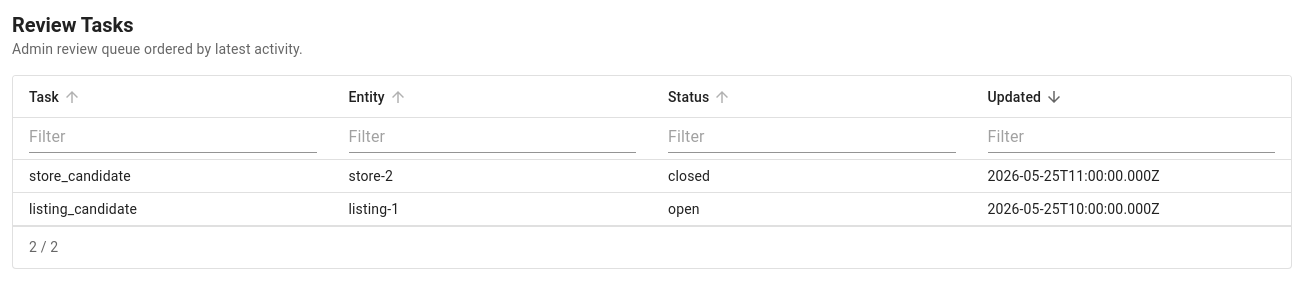
ReviewTasksPage › sorts and filters review tasks
expect the text "store_candidate" is shown: met, box [13,160,332,193]
expect the text "listing_candidate" is shown: met, box [13,193,332,226]
Click the button "Task" at {"x": 57, "y": 97}, box [29,85,85,109]
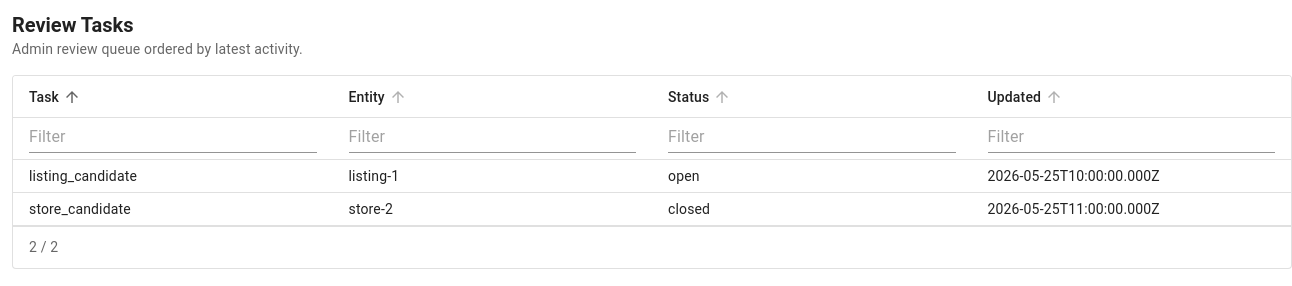
expect the row "listing_candidate listing-1 open 2026-05-25T10:00:00.000Z" is shown: met, box [13,160,1291,193]
Type "open" into the field named "Filter Status" at {"x": 812, "y": 138}, box [668,124,956,153]
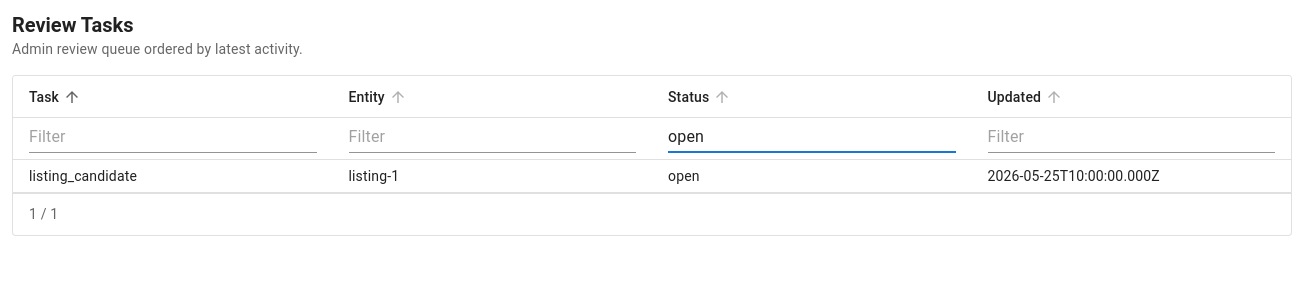
expect the text "listing_candidate" is shown: met, box [13,160,332,193]
expect the text "store_candidate" is gone: met
